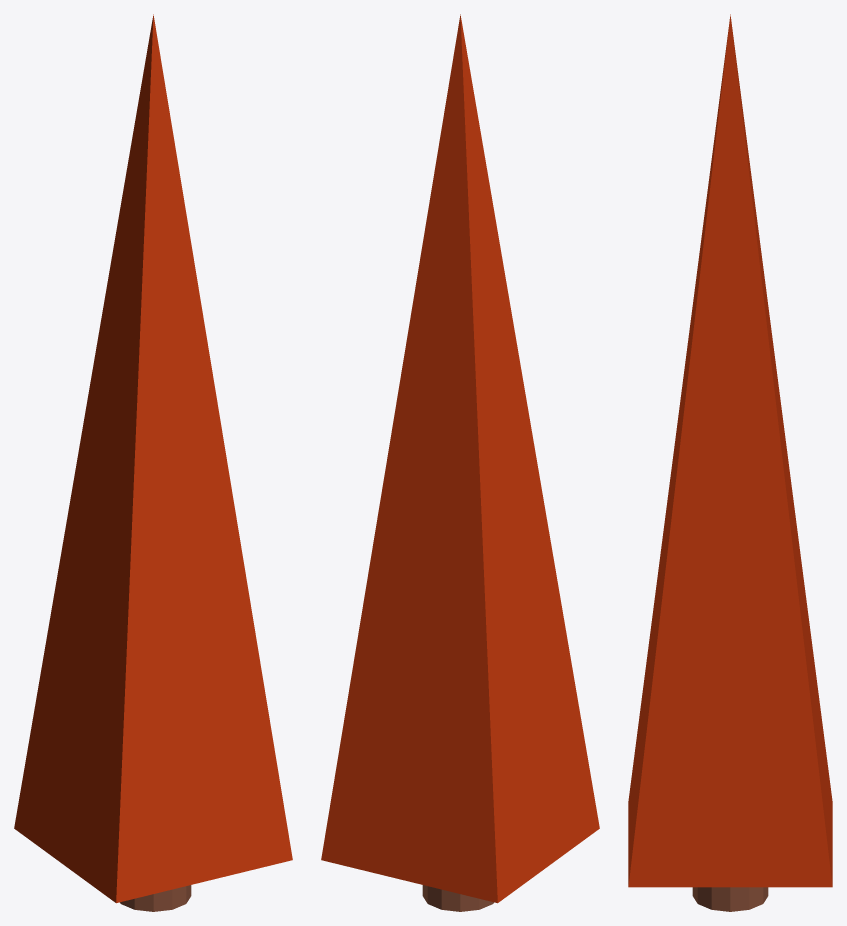
The model's file is Tree_19_summer_red.fbx.
3 views of the same model, side by side, from view 1: azimuth 30°, elevation 25°; view 2: azimuth 150°, elevation 25°; view 3: azimuth 270°, elevation 25° (orthographic).
Visible parts, largest first — view 1: Tree_19_summer_red; view 2: Tree_19_summer_red; view 3: Tree_19_summer_red.
Part boxes in pixels (x1,y1,x2,y2): Tree_19_summer_red: (14,14,292,911); Tree_19_summer_red: (321,14,599,911); Tree_19_summer_red: (628,14,832,911).
Size of the model in its own units: 59.69 by 285 by 59.69.
